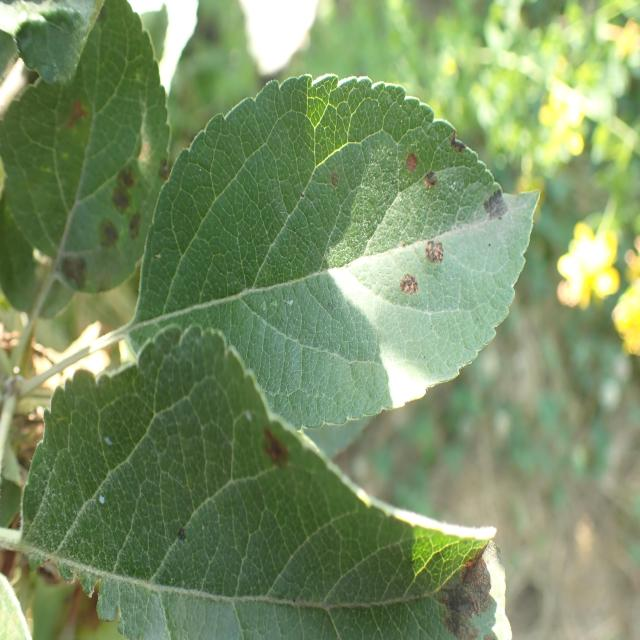scab: (197, 124, 544, 366), (48, 36, 178, 356)
